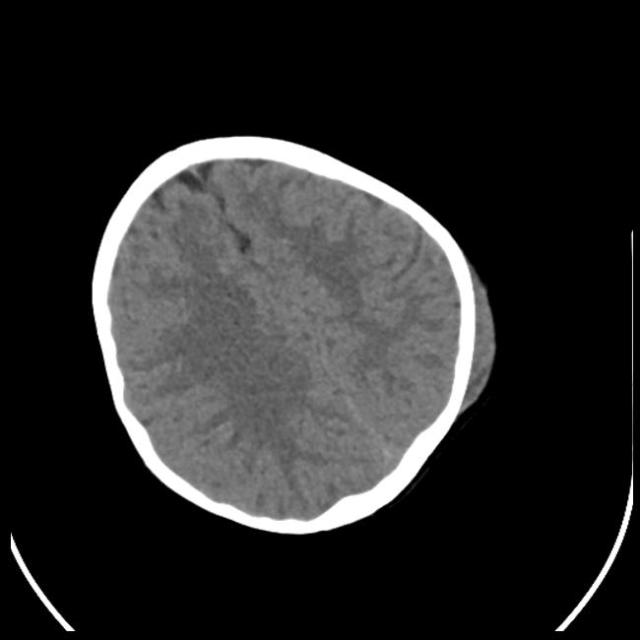lesion: (87, 131, 500, 537)
